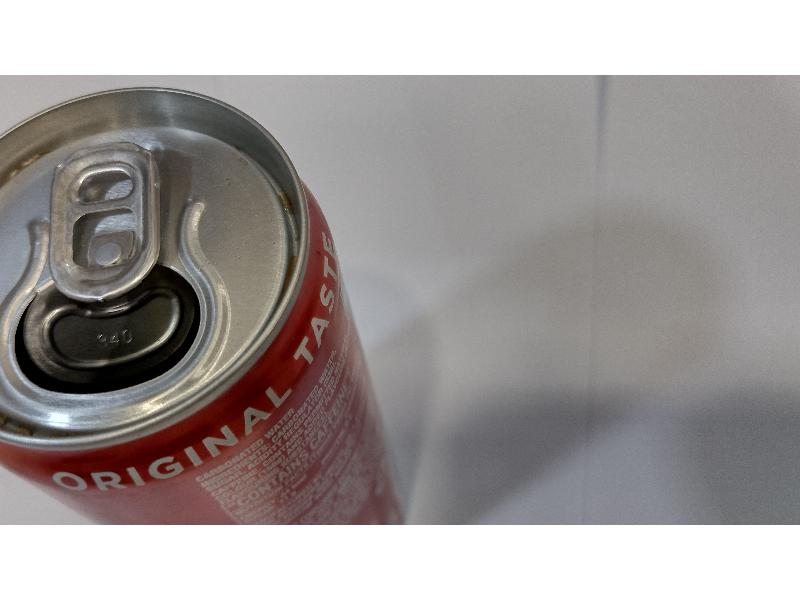can: (0, 84, 412, 523)
